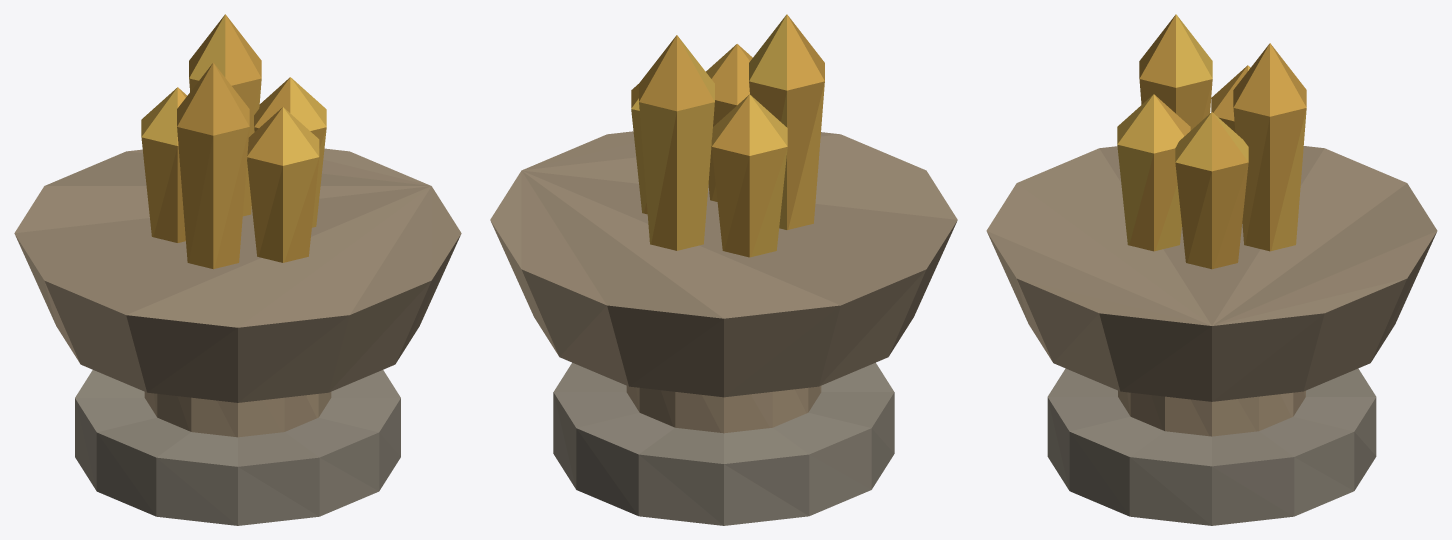
Rendered from brazier.glb.
3 views of the same model, side by side, from view 1: azimuth 30°, elevation 25°; view 2: azimuth 150°, elevation 25°; view 3: azimuth 270°, elevation 25° (orthographic). The views are drawn at different scales.
Parts seen in each view (by area): view 1: bowl, foot, flame_3, flame_4, column, flame_2, flame_1, flame_0; view 2: bowl, foot, flame_1, flame_2, flame_3, column, flame_4, flame_0; view 3: bowl, foot, flame_1, flame_0, flame_4, column, flame_3, flame_2.
Boxes of the visible parts, <box> form: bowl: <box>14,148,461,402</box>; foot: <box>75,370,400,525</box>; flame_3: <box>177,62,249,269</box>; flame_4: <box>247,107,319,262</box>; column: <box>144,392,331,437</box>; flame_2: <box>141,87,187,242</box>; flame_1: <box>189,14,261,216</box>; flame_0: <box>254,77,326,227</box>; bowl: <box>490,131,957,397</box>; foot: <box>553,362,894,525</box>; flame_1: <box>639,35,714,250</box>; flame_2: <box>711,94,787,257</box>; flame_3: <box>749,14,824,229</box>; column: <box>626,386,821,433</box>; flame_4: <box>706,44,752,201</box>; flame_0: <box>631,84,647,214</box>; bowl: <box>986,146,1437,401</box>; foot: <box>1047,368,1376,525</box>; flame_1: <box>1233,43,1306,251</box>; flame_0: <box>1175,112,1248,269</box>; flame_4: <box>1117,94,1190,251</box>; column: <box>1118,390,1305,436</box>; flame_3: <box>1139,14,1212,130</box>; flame_2: <box>1211,65,1250,132</box>.
Size of the model in its own units: 0.96 by 0.99 by 0.96.
